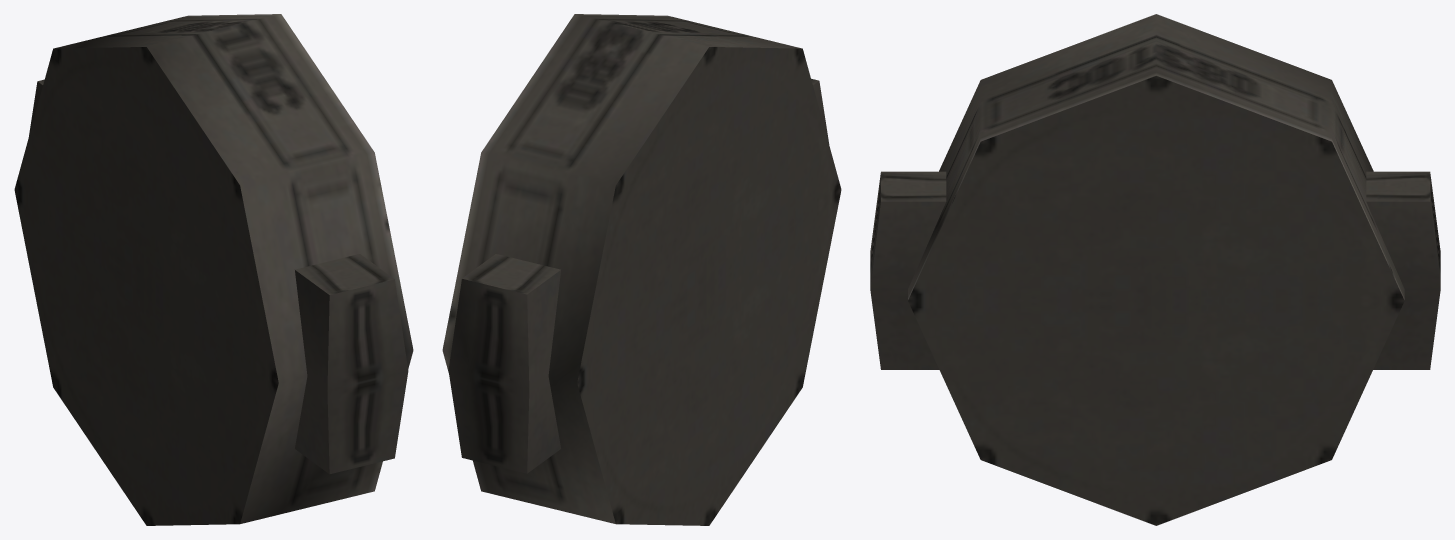
Rendered from com_pipe_4_coupling_white_clean_lod1.glb.
3 renders of one model, left to right at view 1: azimuth 30°, elevation 25°; view 2: azimuth 150°, elevation 25°; view 3: azimuth 270°, elevation 25°, orthographic. The views are drawn at different scales.
Parts seen in each view (by area): view 1: surf0; view 2: surf0; view 3: surf0.
Boxes of the visible parts, bbox=[...] form: surf0: bbox=[14, 14, 413, 525]; surf0: bbox=[442, 14, 841, 525]; surf0: bbox=[870, 14, 1440, 525].
Bounding box in the file's own units: 2.57 × 8.72 × 10.02.
